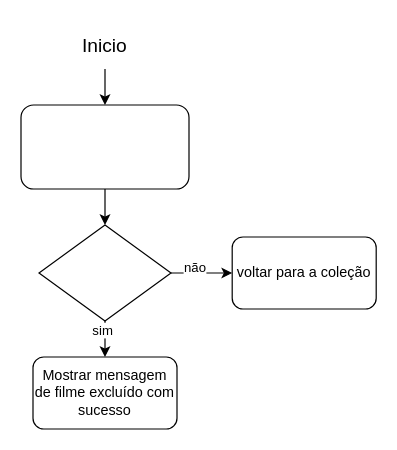
Image size: 397x450. Some labels were removed from this diagram. Each missing label, with the box of its shape:
Confirmar exclusão: (38, 224, 171, 321)
Selecionar a opção "remover filme" do filme desejado: (20, 104, 189, 189)
